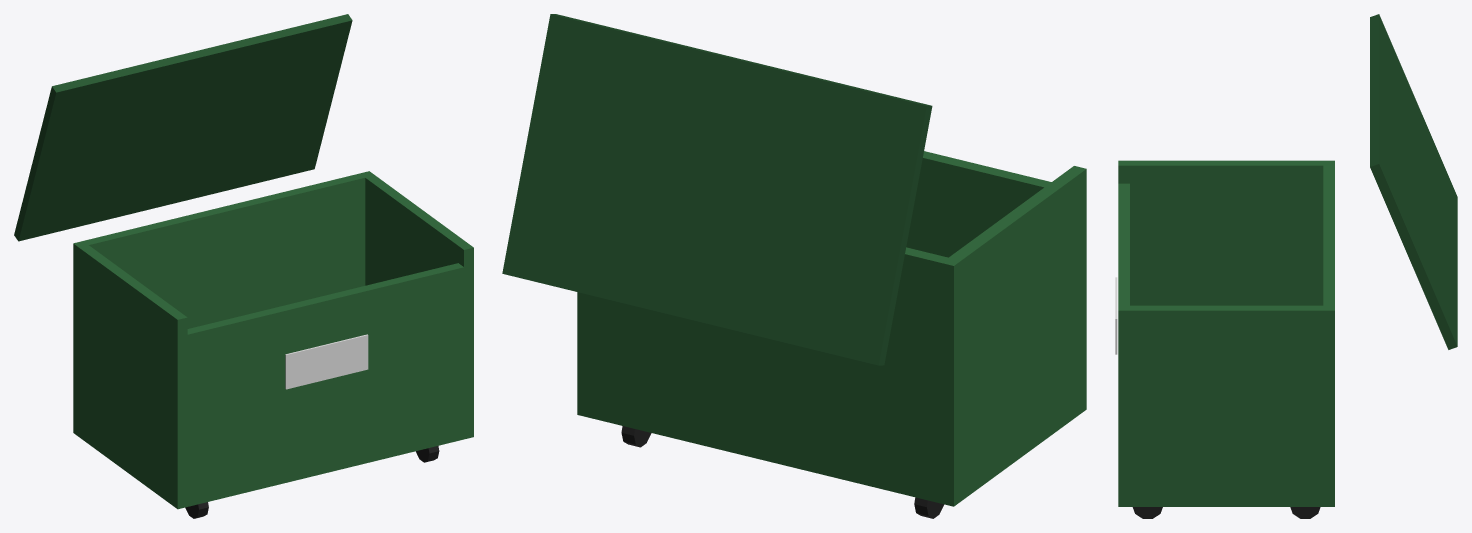
Rendered from dumpster.glb.
3 views of the same model, side by side, from view 1: azimuth 30°, elevation 25°; view 2: azimuth 150°, elevation 25°; view 3: azimuth 270°, elevation 25° (orthographic). The views are drawn at different scales.
Visible parts, largest first — view 1: body_dumpster_green, lid_dumpster_lid, body_dumpster_sign, body_dumpster_wheel; view 2: lid_dumpster_lid, body_dumpster_green, body_dumpster_wheel; view 3: body_dumpster_green, lid_dumpster_lid, body_dumpster_wheel.
Part boxes in pixels (bbox=[...]): body_dumpster_green: bbox=[73, 171, 473, 509]; lid_dumpster_lid: bbox=[14, 14, 352, 241]; body_dumpster_sign: bbox=[285, 334, 368, 389]; body_dumpster_wheel: bbox=[185, 445, 439, 518]; lid_dumpster_lid: bbox=[502, 14, 932, 365]; body_dumpster_green: bbox=[577, 151, 1086, 506]; body_dumpster_wheel: bbox=[621, 426, 944, 518]; body_dumpster_green: bbox=[1118, 160, 1334, 506]; lid_dumpster_lid: bbox=[1370, 14, 1457, 349]; body_dumpster_wheel: bbox=[1132, 507, 1320, 518].
Bounding box in the file's own units: 1.8 × 2.07 × 1.74.
